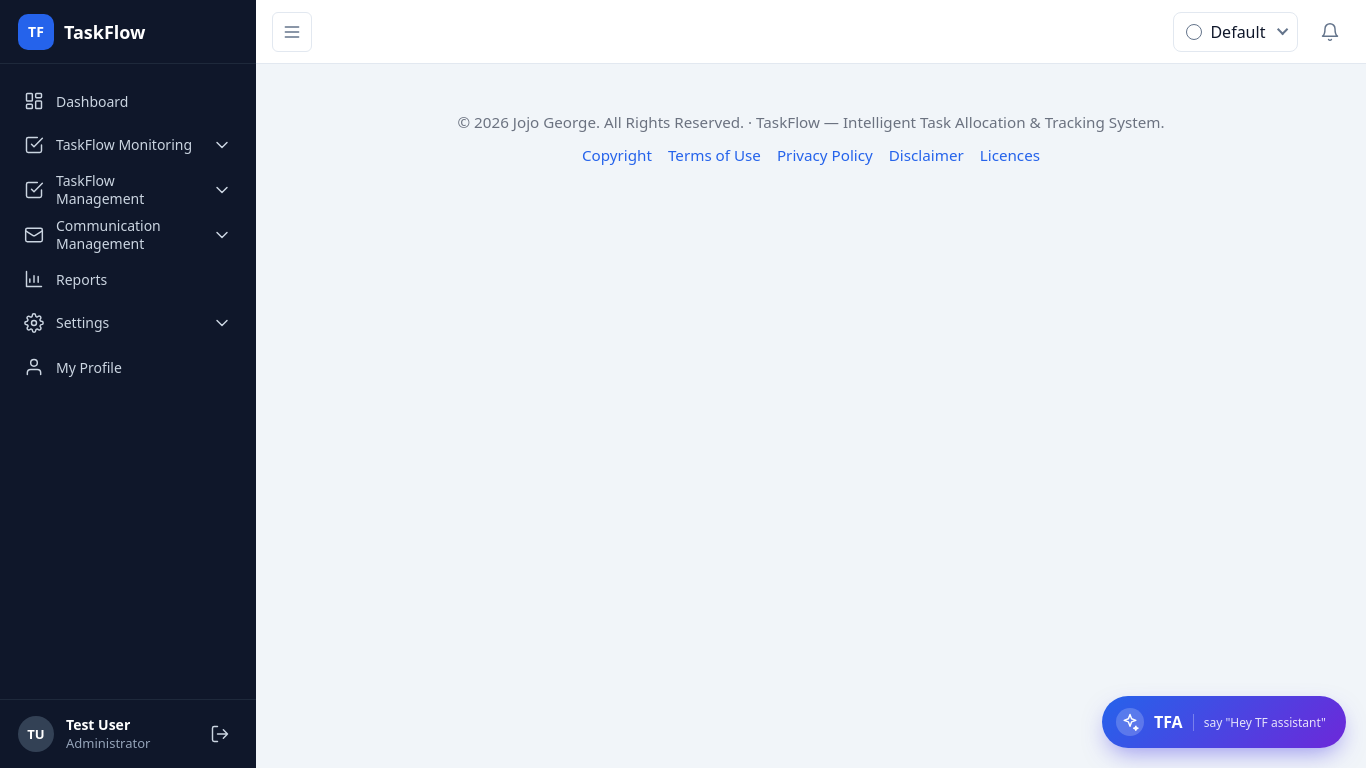
Test case: ShellComponent › opens the mobile drawer and closes it with the backdrop, returning focus to the toggle
Click the button with class "header__toggle": [292, 32] box x1=272 y1=12 x2=312 y2=52
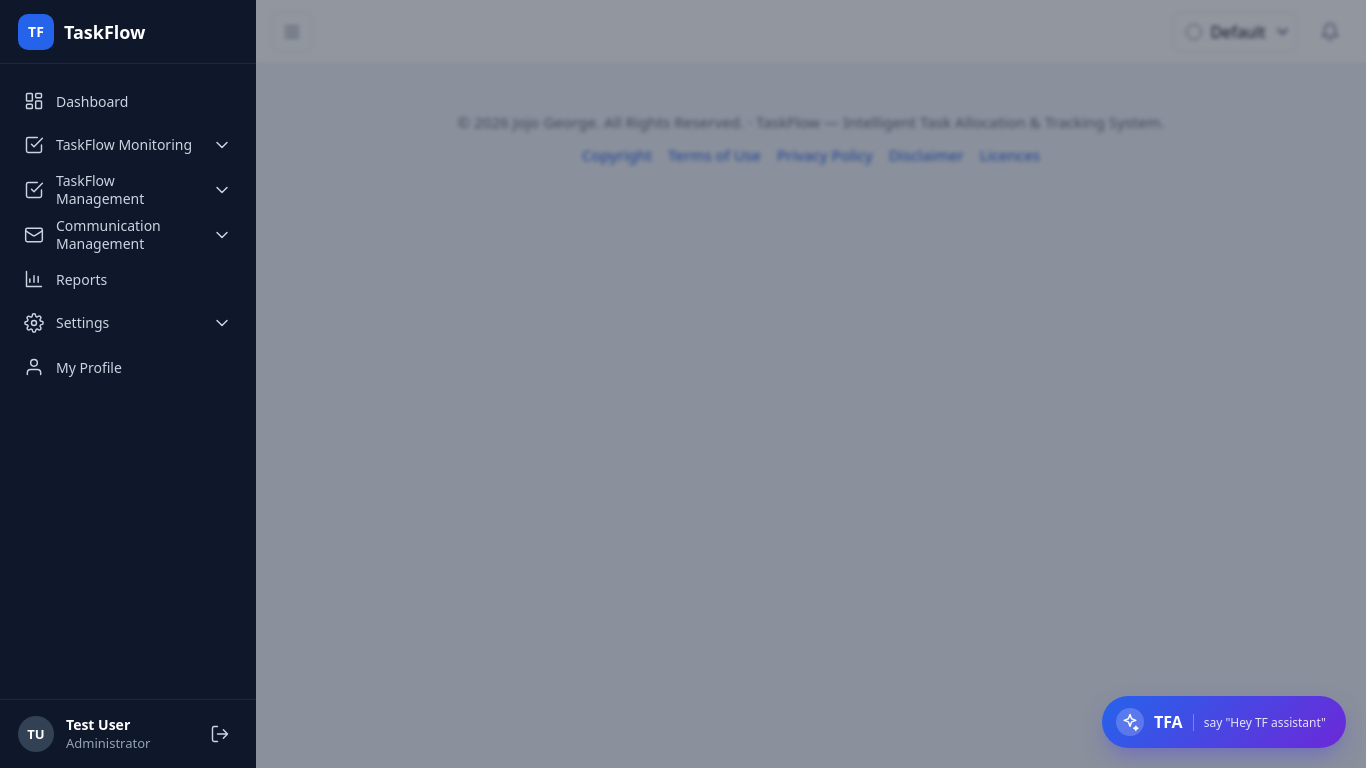
Expected: the button with class "header__toggle" is expanded, x1=272 y1=12 x2=312 y2=52
Click the element with class "backdrop": [683, 384] box x1=0 y1=0 x2=1365 y2=767
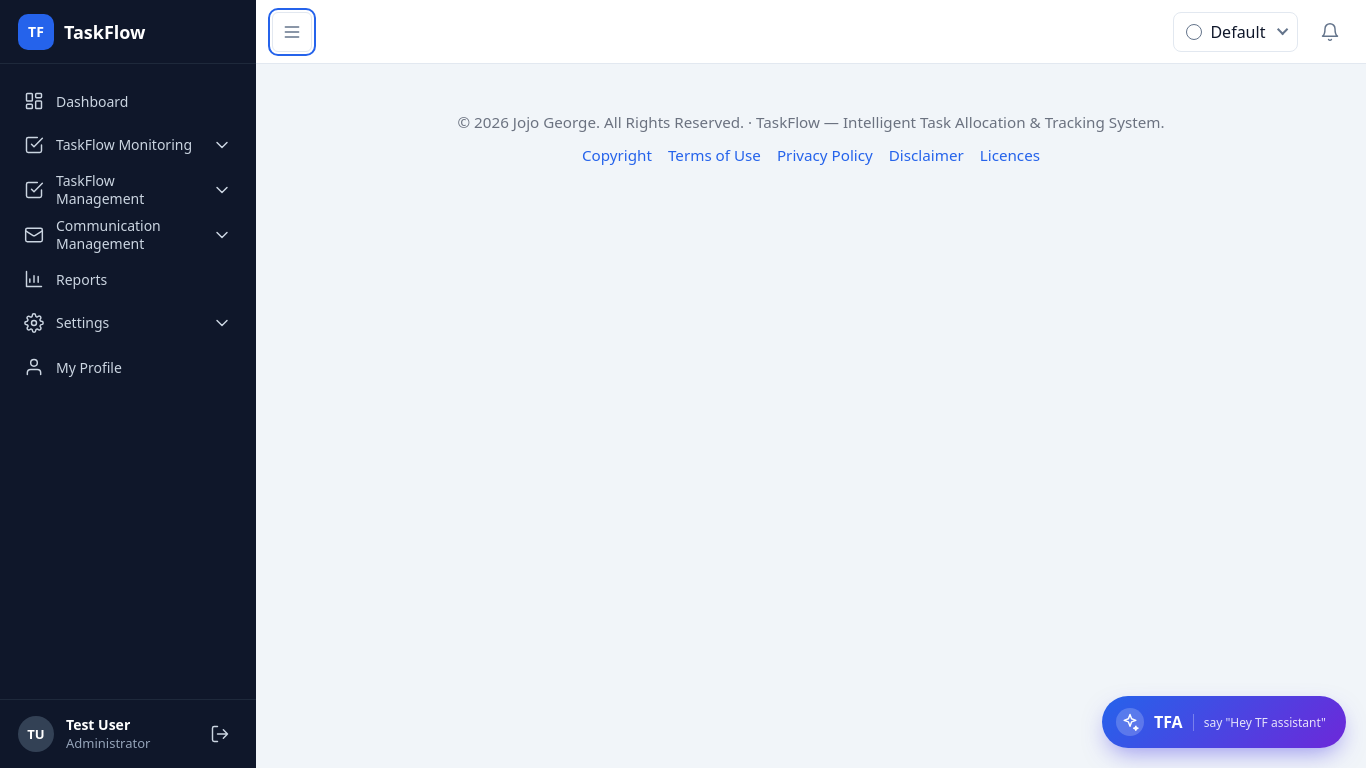
Expected: the element with class "backdrop" is gone
